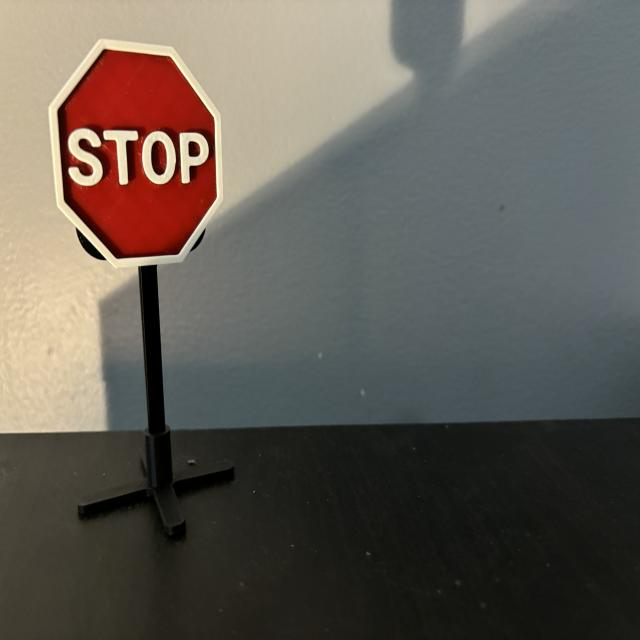sign_stop: (50, 41, 225, 269)
